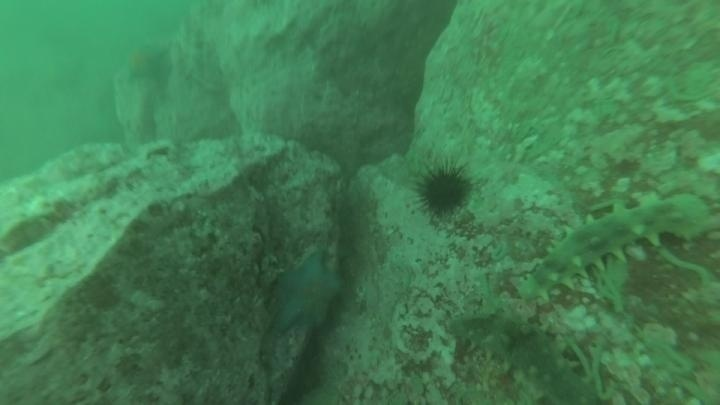echinus: (413, 161, 475, 219)
holothurian: (515, 193, 714, 304), (448, 308, 605, 403)
starfish: (269, 248, 346, 337), (120, 40, 172, 88)
